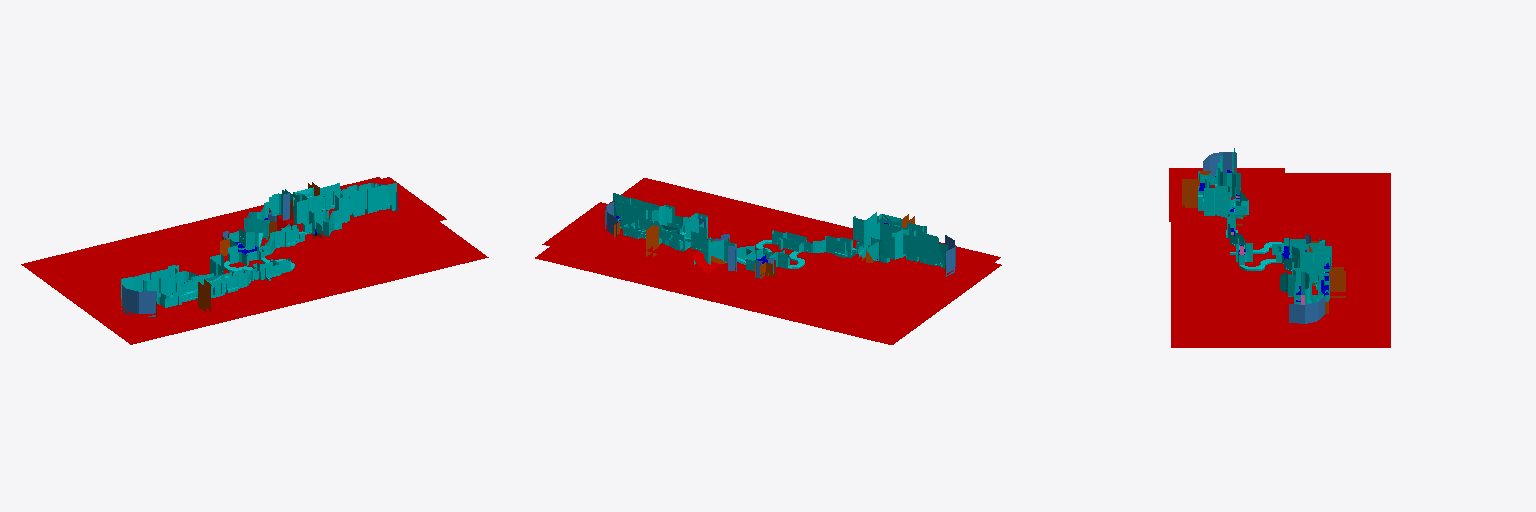
The model's file is stg0400_collision.obj.
3 renders of one model, left to right at view 1: azimuth 30°, elevation 25°; view 2: azimuth 150°, elevation 25°; view 3: azimuth 270°, elevation 25°, orthographic.
Visible parts, largest first — view 1: STG0400_COLI_63, STG0400_COLI_07, STG0400_COLI_24, STG0400_COLI_27, STG0400_COLI_10, STG0400_COLI_05, STG0400_COLI_14, STG0400_COLI_22, STG0400_COLI_04, STG0400_COLI_28, STG0400_COLI_03, STG0400_COLI_58 (+2 smaller); view 2: STG0400_COLI_63, STG0400_COLI_10, STG0400_COLI_03, STG0400_COLI_22, STG0400_COLI_02, STG0400_COLI_05, STG0400_COLI_20, STG0400_COLI_28, STG0400_COLI_11, STG0400_COLI_23, STG0400_COLI_08, STG0400_COLI_15 (+1 smaller); view 3: STG0400_COLI_63, STG0400_COLI_03, STG0400_COLI_28, STG0400_COLI_20, STG0400_COLI_02, STG0400_COLI_24, STG0400_COLI_08, STG0400_COLI_05.
Boxes of the visible parts, x1=… form: STG0400_COLI_63: x1=21, y1=177, x2=488, y2=344; STG0400_COLI_07: x1=294, y1=194, x2=329, y2=245; STG0400_COLI_24: x1=119, y1=285, x2=164, y2=318; STG0400_COLI_27: x1=176, y1=280, x2=222, y2=313; STG0400_COLI_10: x1=243, y1=189, x2=293, y2=242; STG0400_COLI_05: x1=335, y1=183, x2=376, y2=216; STG0400_COLI_14: x1=228, y1=228, x2=264, y2=265; STG0400_COLI_22: x1=141, y1=265, x2=178, y2=295; STG0400_COLI_04: x1=368, y1=183, x2=396, y2=213; STG0400_COLI_28: x1=182, y1=264, x2=228, y2=311; STG0400_COLI_03: x1=355, y1=184, x2=415, y2=225; STG0400_COLI_58: x1=244, y1=218, x2=276, y2=251; STG0400_COLI_63: x1=535, y1=178, x2=1001, y2=344; STG0400_COLI_10: x1=682, y1=216, x2=736, y2=278; STG0400_COLI_03: x1=581, y1=202, x2=639, y2=245; STG0400_COLI_22: x1=890, y1=230, x2=938, y2=261; STG0400_COLI_02: x1=639, y1=220, x2=690, y2=256; STG0400_COLI_05: x1=622, y1=201, x2=671, y2=225; STG0400_COLI_20: x1=852, y1=215, x2=881, y2=260; STG0400_COLI_28: x1=873, y1=212, x2=908, y2=242; STG0400_COLI_11: x1=711, y1=234, x2=736, y2=271; STG0400_COLI_23: x1=920, y1=238, x2=947, y2=274; STG0400_COLI_08: x1=635, y1=218, x2=669, y2=256; STG0400_COLI_15: x1=755, y1=252, x2=800, y2=278; STG0400_COLI_63: x1=1169, y1=168, x2=1390, y2=347; STG0400_COLI_03: x1=1276, y1=296, x2=1338, y2=328; STG0400_COLI_28: x1=1183, y1=181, x2=1214, y2=215; STG0400_COLI_20: x1=1204, y1=186, x2=1257, y2=225; STG0400_COLI_02: x1=1313, y1=252, x2=1345, y2=295; STG0400_COLI_24: x1=1200, y1=152, x2=1236, y2=187; STG0400_COLI_08: x1=1316, y1=271, x2=1345, y2=297; STG0400_COLI_05: x1=1293, y1=268, x2=1311, y2=304.
Bounding box in the file's own units: 12947 × 2616 × 6934.